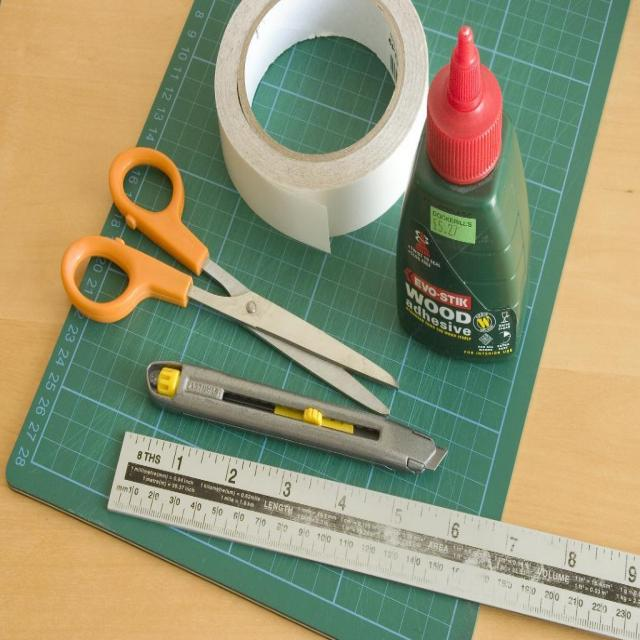scissor: (62, 144, 400, 418)
